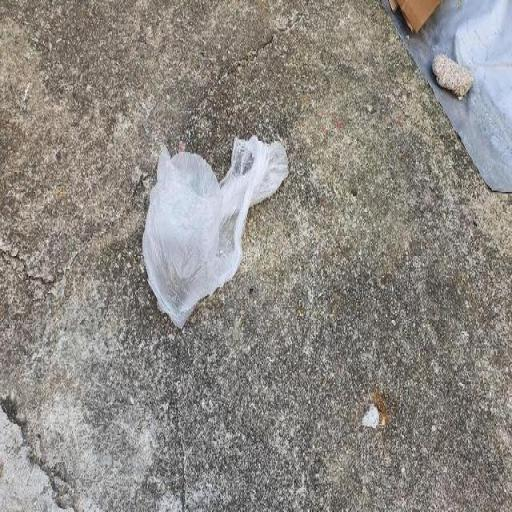plastic-bag: (140, 134, 294, 335)
